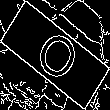O_SW: (27, 22, 83, 88)
